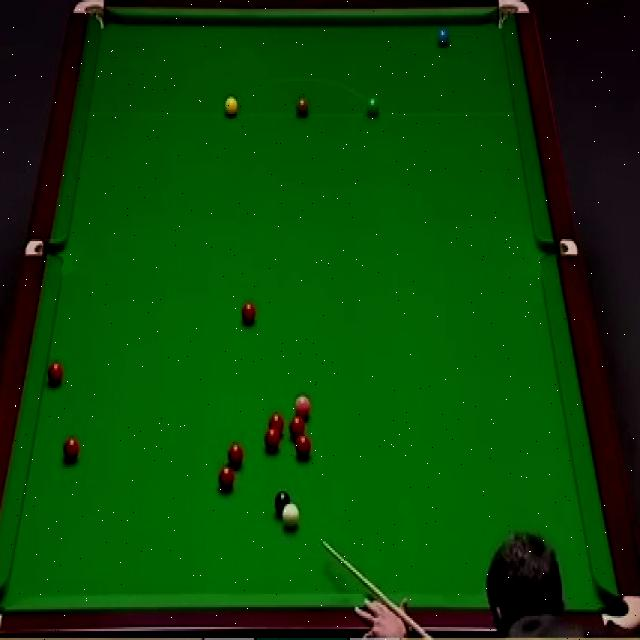black-ball: (274, 489, 293, 521)
blue-ball: (435, 22, 452, 49)
brown-ball: (295, 97, 310, 120)
green-ball: (366, 97, 380, 120)
pink-ball: (292, 393, 312, 420)
red-ball: (62, 436, 81, 466), (217, 466, 236, 494), (240, 300, 258, 327), (263, 428, 281, 454), (228, 442, 243, 470), (46, 361, 62, 387), (267, 413, 285, 436), (296, 434, 312, 459), (288, 417, 306, 438)
white-ball: (281, 501, 300, 532)
yellow-ball: (224, 95, 239, 118)
